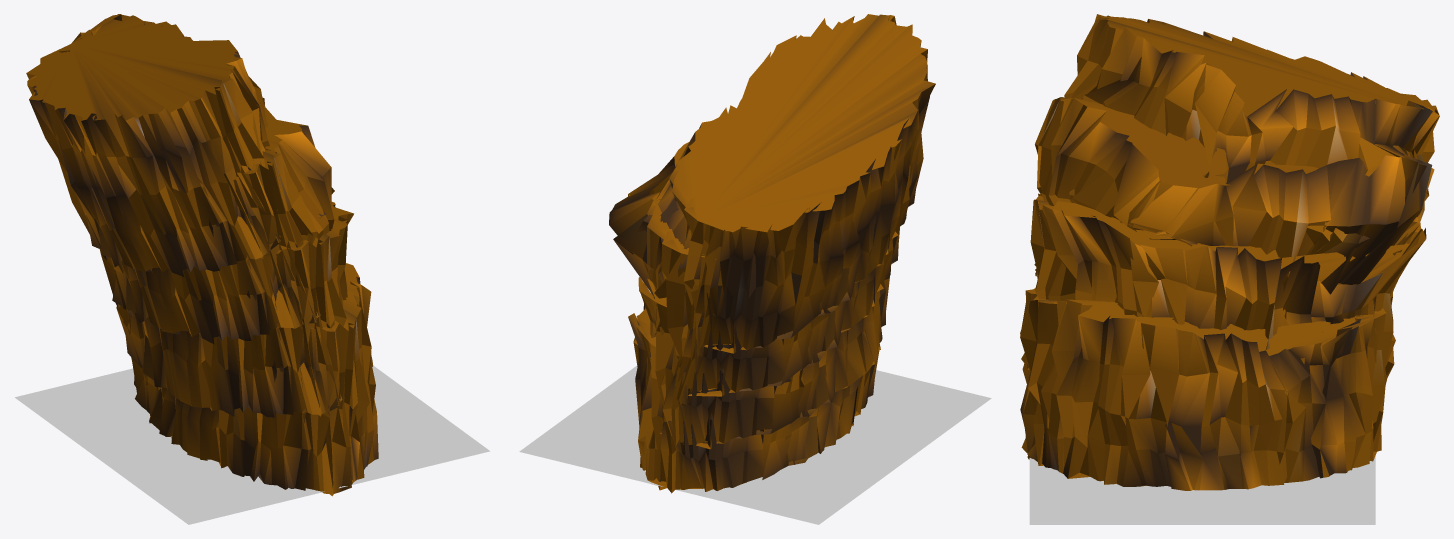
File: CurveWall.fbx
3 renders of one model, left to right at view 1: azimuth 30°, elevation 25°; view 2: azimuth 150°, elevation 25°; view 3: azimuth 270°, elevation 25°, orthographic.
Parts seen in each view (by area): view 1: Cylinder, Plane; view 2: Cylinder, Plane; view 3: Cylinder, Plane.
Boxes of the visible parts, <box> form: Cylinder: <box>26,14,378,496</box>; Plane: <box>15,365,489,524</box>; Cylinder: <box>609,14,935,493</box>; Plane: <box>519,365,991,524</box>; Cylinder: <box>1020,14,1439,490</box>; Plane: <box>1029,456,1375,524</box>.
Size of the model in its own units: 416 by 514 by 486.
